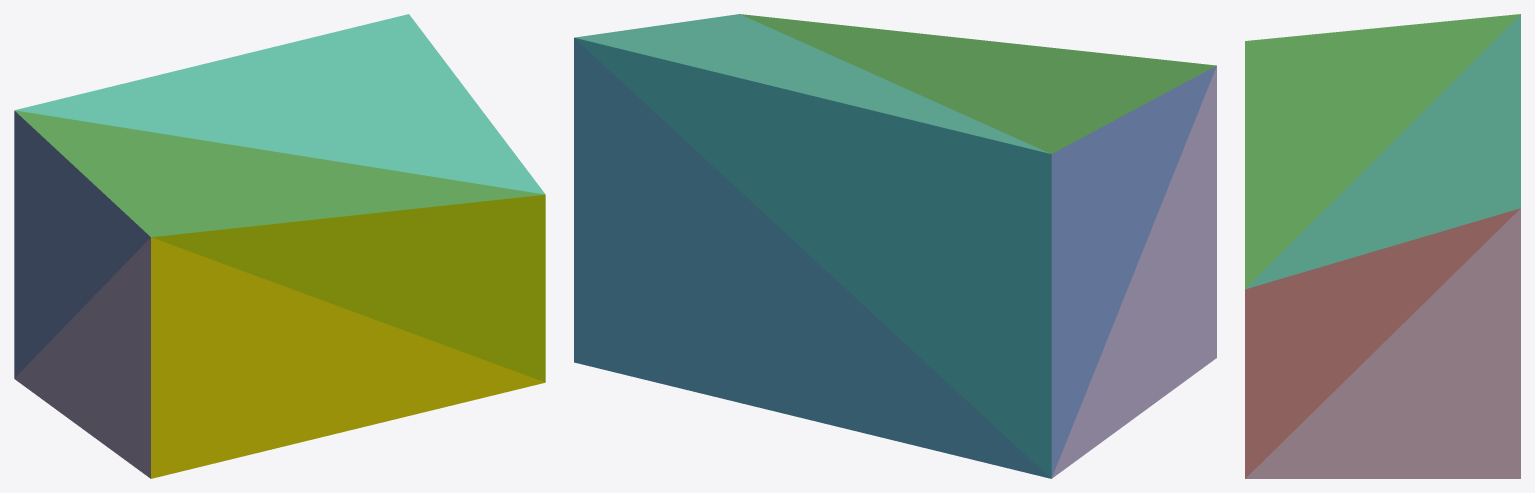
The model's file is cube_dented_scaled_nonuniform.gltf.
3 views of the same model, side by side, from view 1: azimuth 30°, elevation 25°; view 2: azimuth 150°, elevation 25°; view 3: azimuth 270°, elevation 25° (orthographic). The views are drawn at different scales.
Parts seen in each view (by area): view 1: Cube.002; view 2: Cube.002; view 3: Cube.002.
Part boxes in pixels (box(x1,y1,x2,y2)): Cube.002: box(14, 14, 545, 478); Cube.002: box(574, 14, 1216, 478); Cube.002: box(1245, 14, 1520, 478).
Size of the model in its own units: 2 by 1.3 by 1.2.
